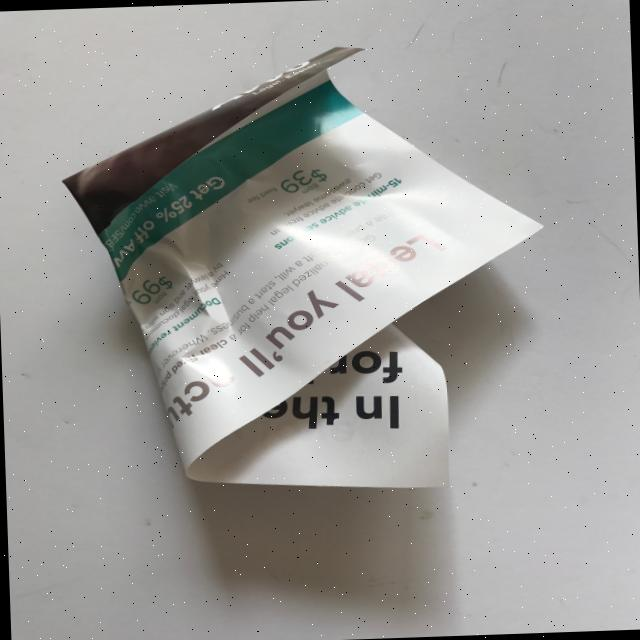paper: (56, 39, 552, 499)
